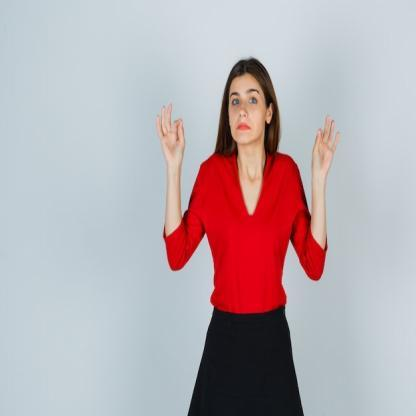ok: (308, 108, 344, 181), (155, 101, 190, 168)
